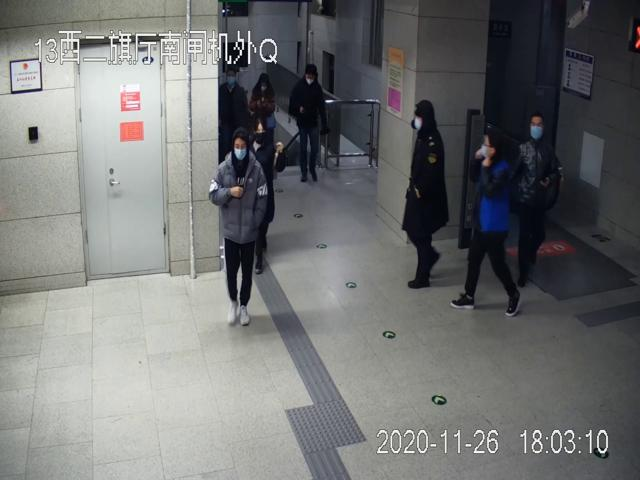person: (450, 122, 521, 317), (209, 129, 270, 329), (400, 97, 450, 292), (516, 112, 565, 291), (286, 52, 330, 183)
